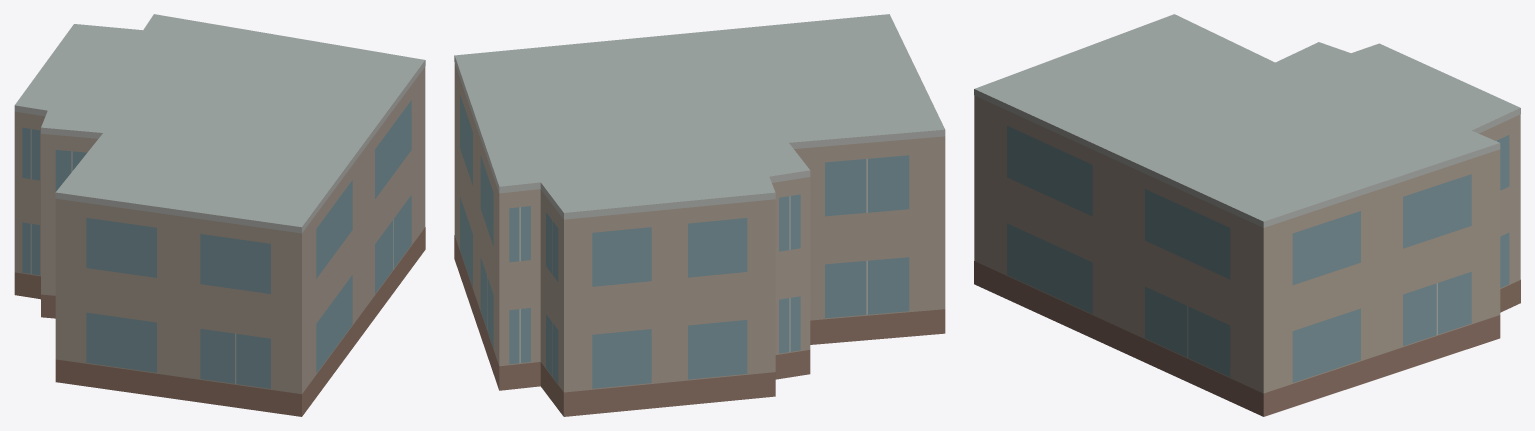
The model's file is survey-upis-32625316.glb.
3 views of the same model, side by side, from view 1: azimuth 30°, elevation 25°; view 2: azimuth 150°, elevation 25°; view 3: azimuth 270°, elevation 25° (orthographic). The views are drawn at different scales.
Visible parts, largest first — view 1: survey-upis-32625316.tmp; view 2: survey-upis-32625316.tmp; view 3: survey-upis-32625316.tmp.
Part boxes in pixels (<box>): survey-upis-32625316.tmp: <box>14,14,425,416</box>; survey-upis-32625316.tmp: <box>454,14,945,416</box>; survey-upis-32625316.tmp: <box>974,14,1520,416</box>.
Bounding box in the file's own units: 17.11 × 7.5 × 19.03.
